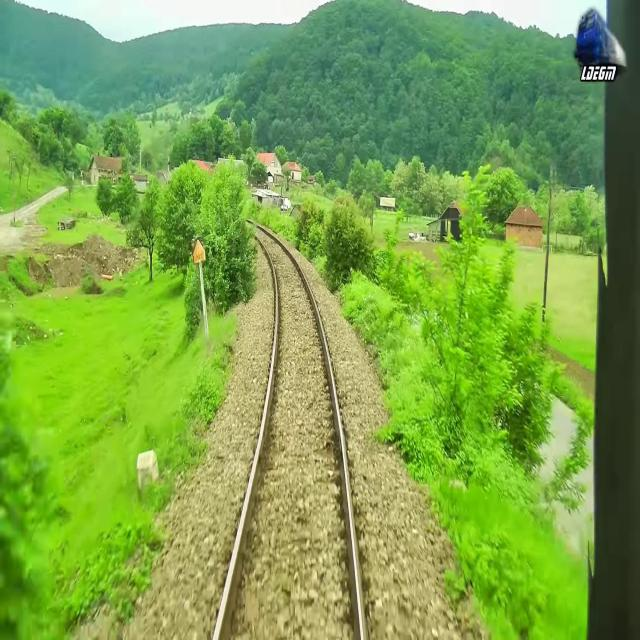rail-track: (216, 220, 359, 639)
